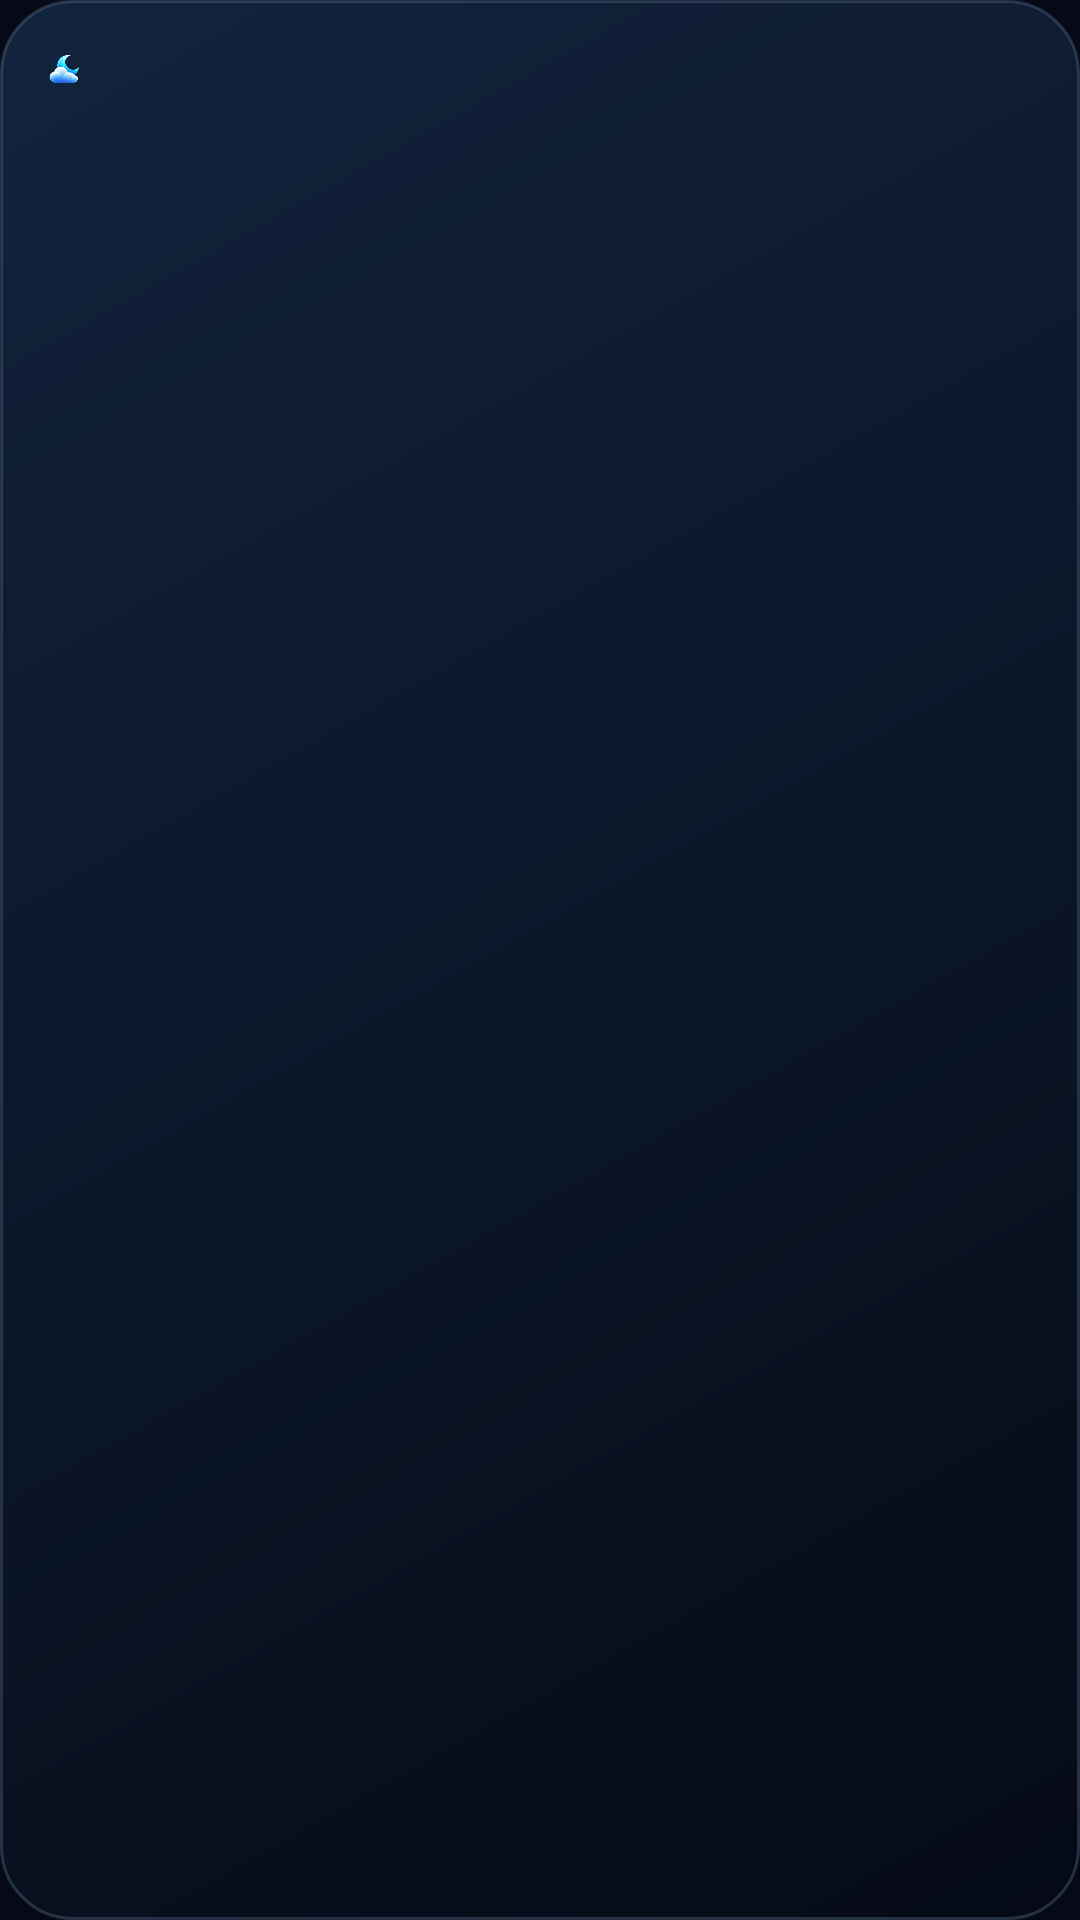

Locate icon controls on the screen. Image size 1080 x 1920, boxes as (x1, y1, x2, y2).
brand mark: (49, 55, 79, 83)
